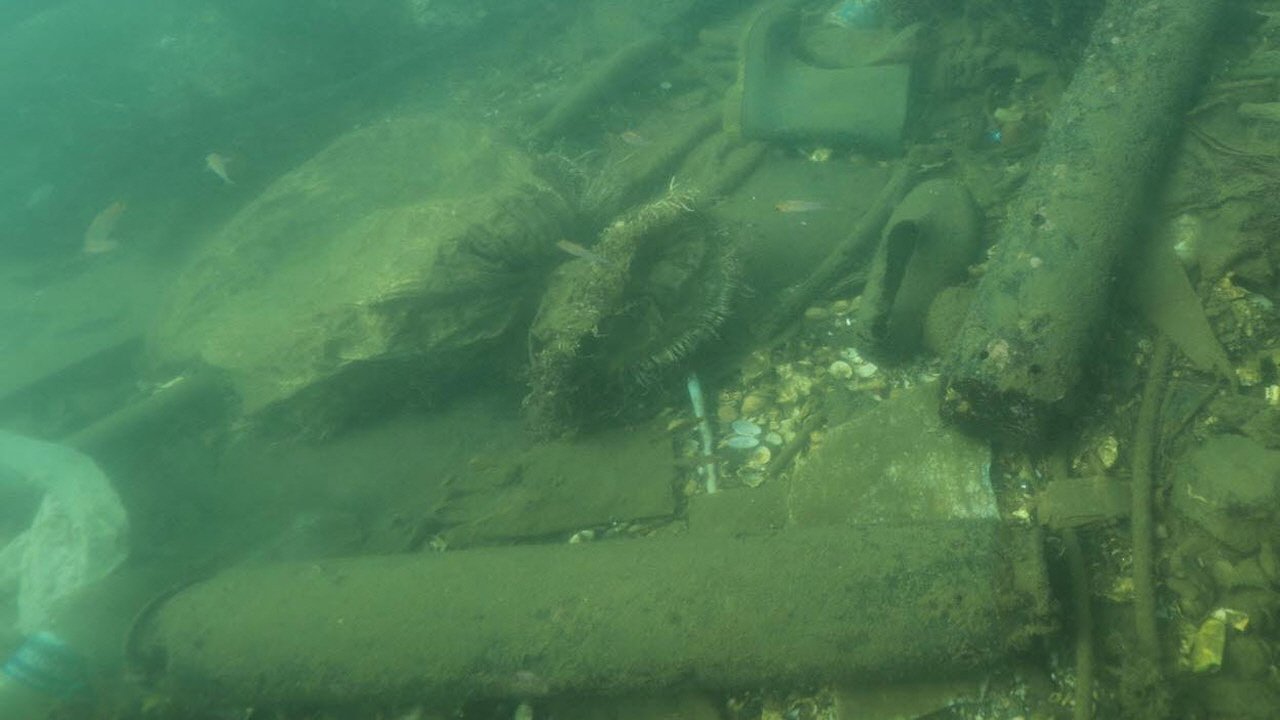eel fish trap: (140, 514, 1077, 717), (940, 0, 1228, 447)
